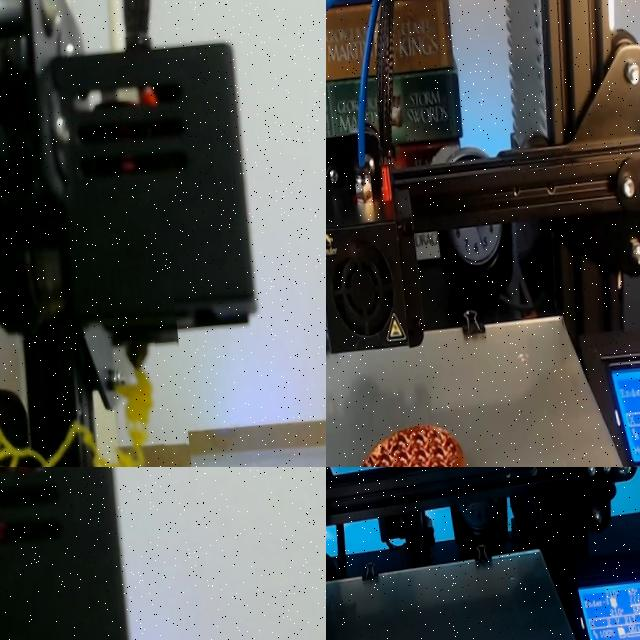spaghetti: (0, 367, 153, 467)
